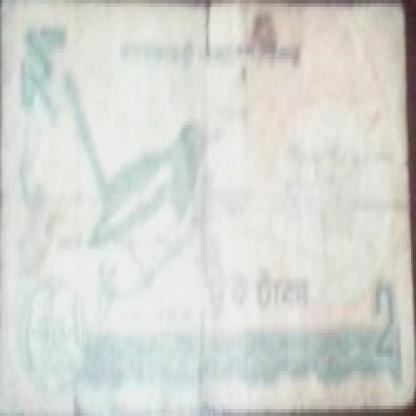two taka: (15, 35, 106, 138), (363, 281, 399, 357)
